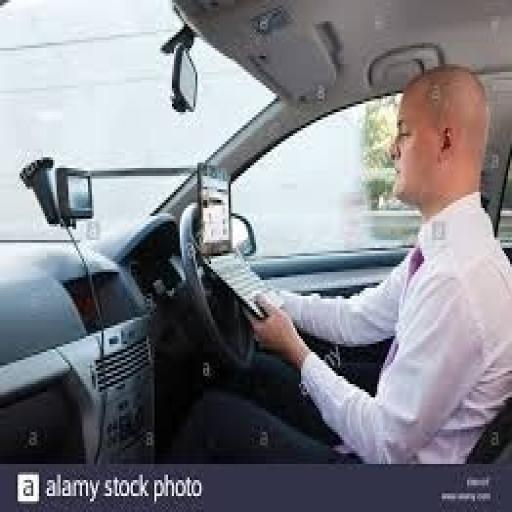using_laptop: (194, 160, 286, 323)
